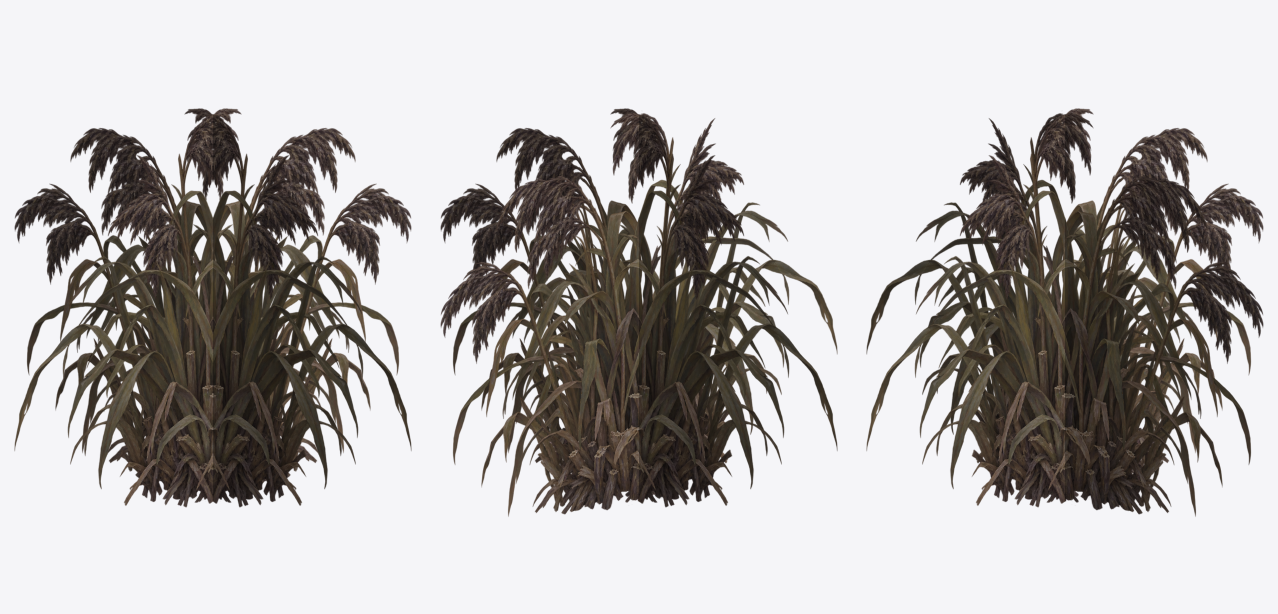
The model's file is v4-marsh-path-scatter-reeds.glb.
3 views of the same model, side by side, from view 1: azimuth 30°, elevation 25°; view 2: azimuth 150°, elevation 25°; view 3: azimuth 270°, elevation 25° (orthographic).
Visible parts, largest first — view 1: v4-marsh-path-scatter-reeds; view 2: v4-marsh-path-scatter-reeds; view 3: v4-marsh-path-scatter-reeds.
Boxes of the visible parts, x1,y1,x2,y2 form: v4-marsh-path-scatter-reeds: (14,108,411,507); v4-marsh-path-scatter-reeds: (440,108,837,516); v4-marsh-path-scatter-reeds: (866,108,1263,516).
Size of the model in its own units: 1.27 by 1.2 by 1.1.
1 material, 1 textured.
